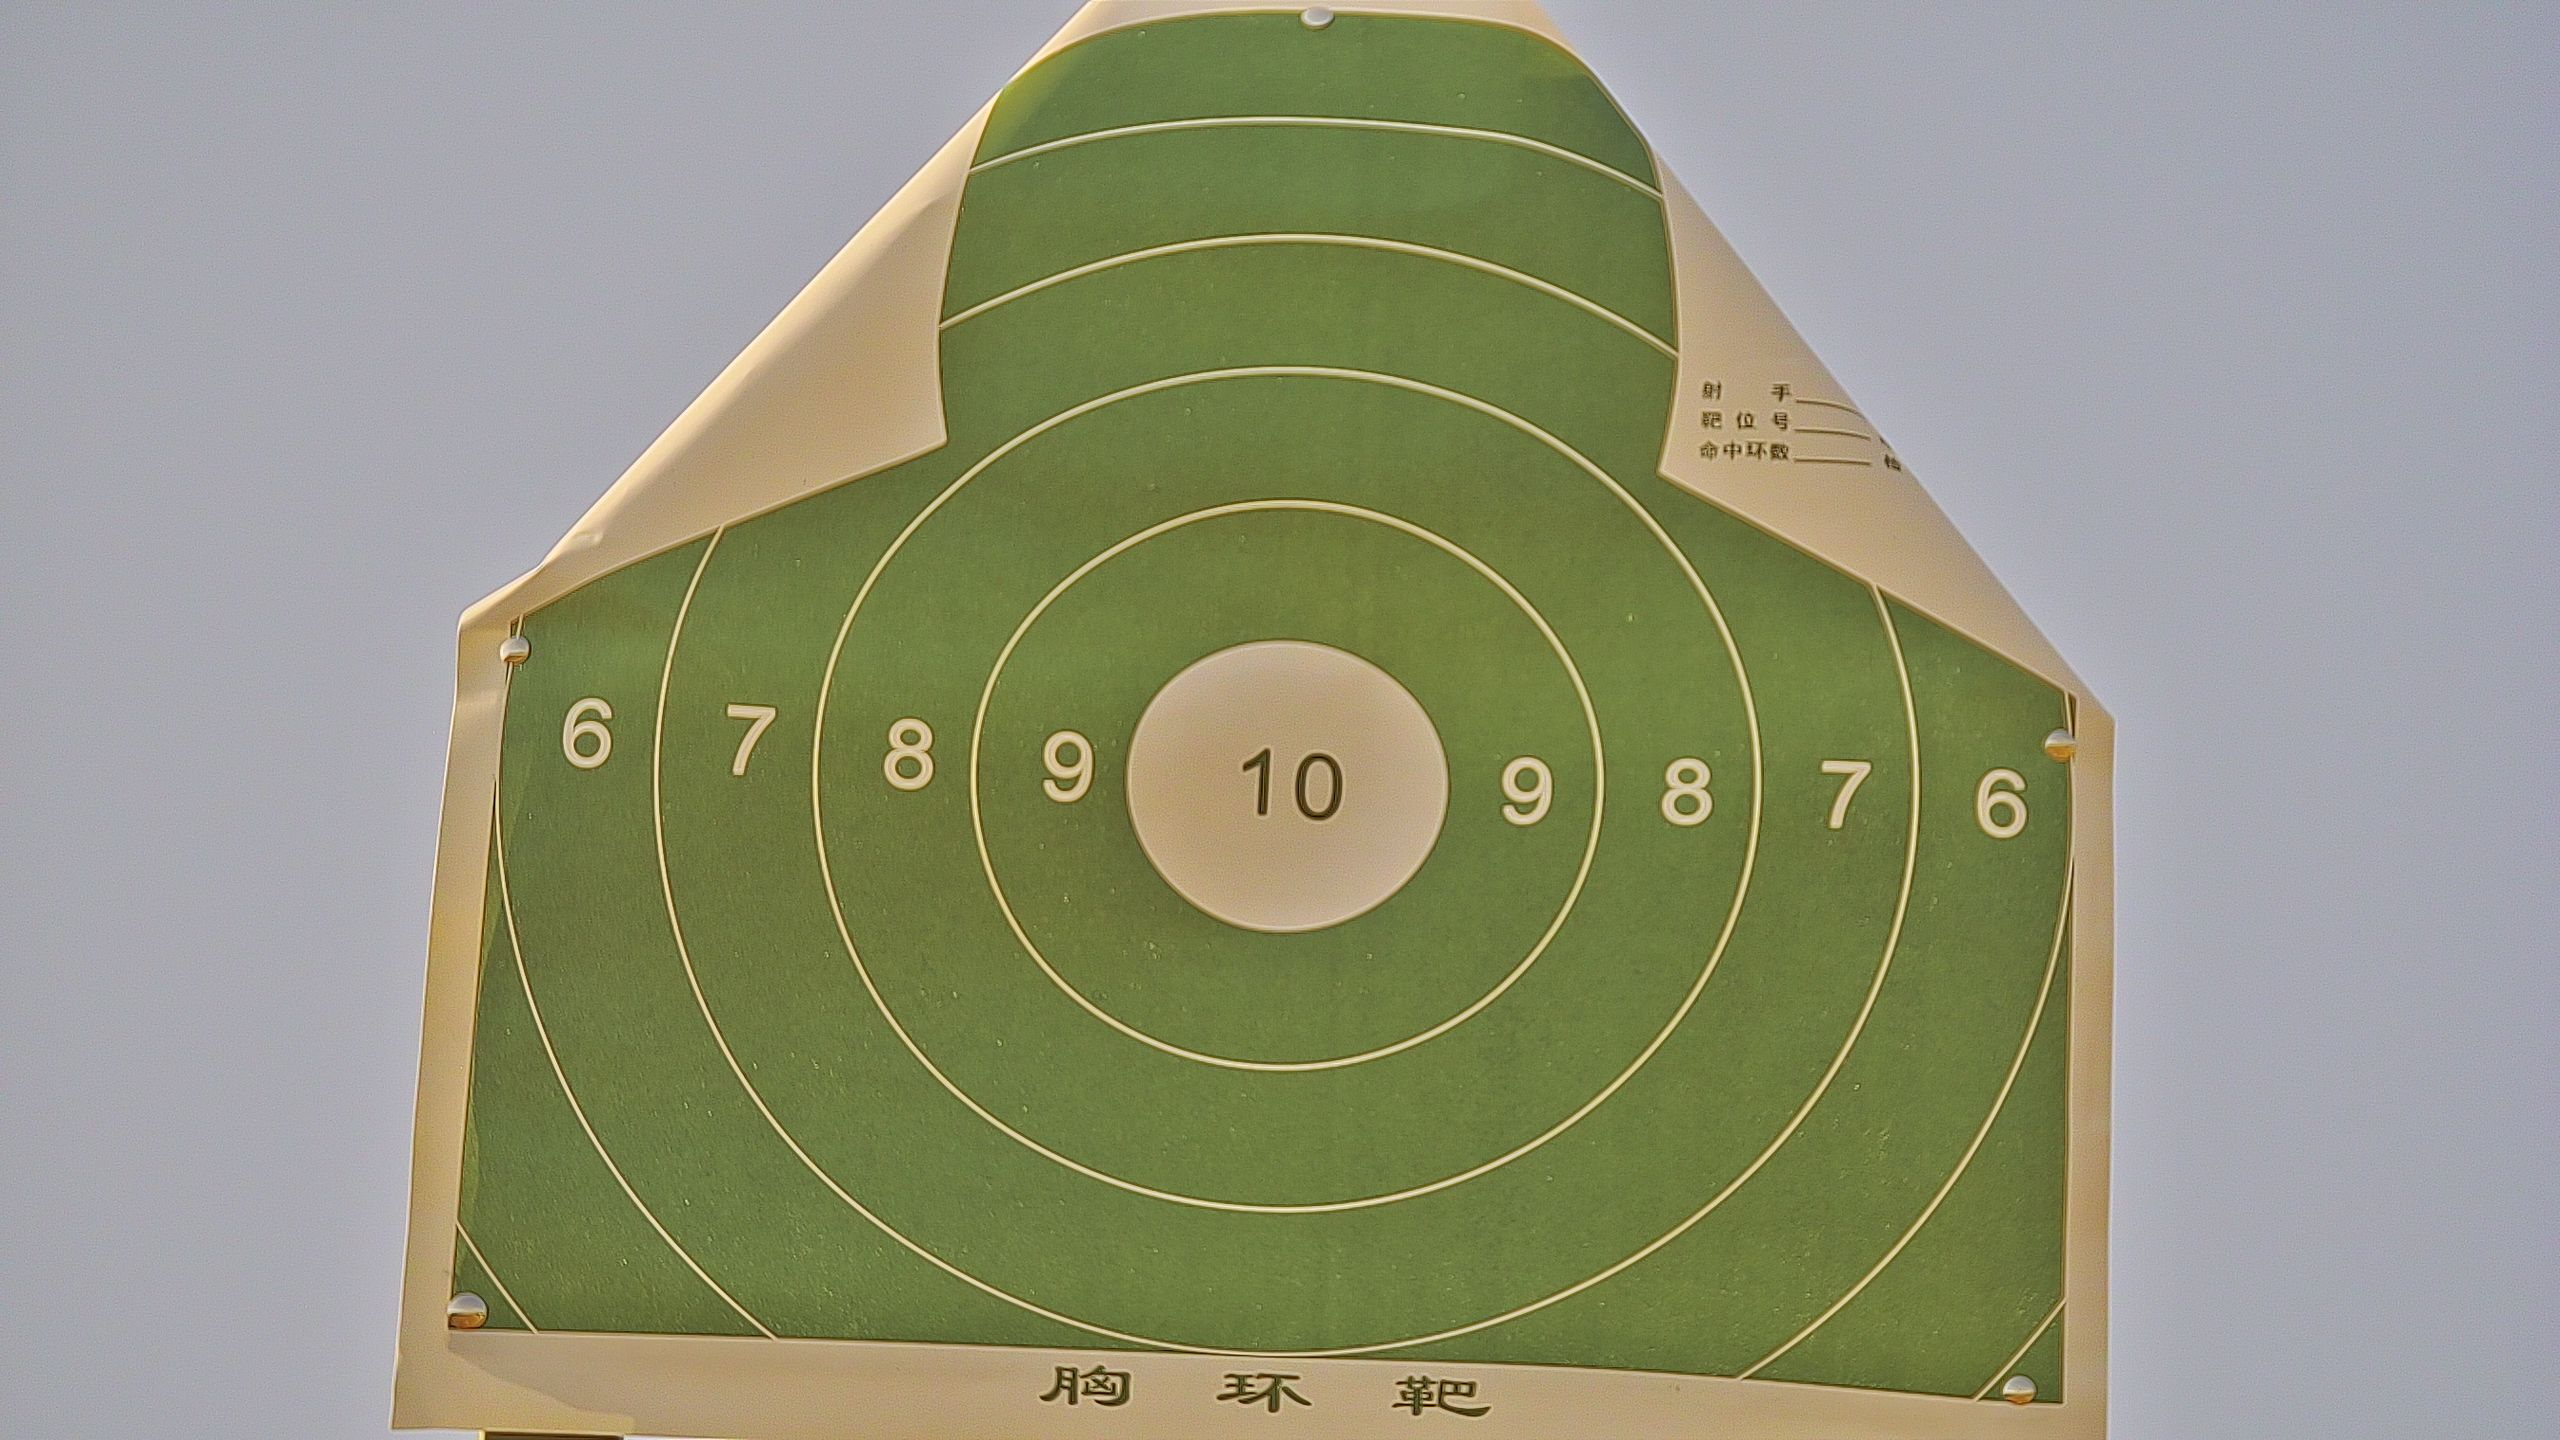kernel: (1282, 782, 1284, 789)
target: (454, 2, 2076, 1410)
ten: (1127, 640, 1451, 935)
